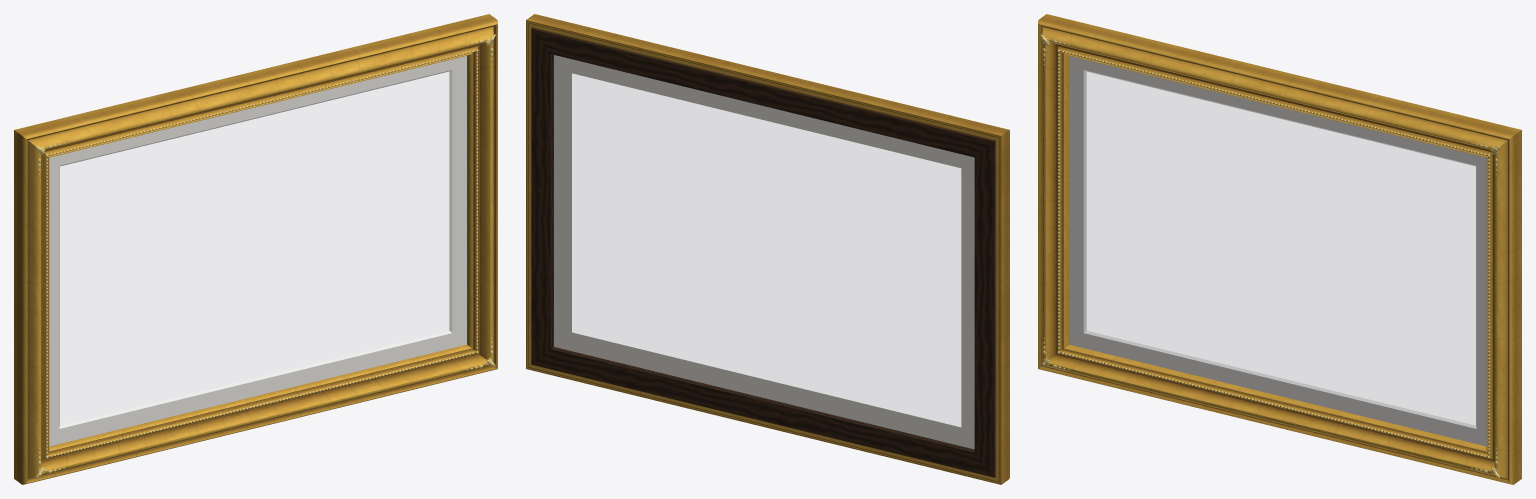
Rendered from gallery-frame.glb.
3 views of the same model, side by side, from view 1: azimuth 30°, elevation 25°; view 2: azimuth 150°, elevation 25°; view 3: azimuth 330°, elevation 25° (orthographic).
Visible parts, largest first — view 1: MuseumGlass_Pane, GoldFrame_Molding, Passepartout_Board, GoldFrame_PearlBeading, GoldFrame_CornerClasps; view 2: MuseumGlass_Pane, Subframe_Walnut, Passepartout_Board, GoldFrame_Molding; view 3: MuseumGlass_Pane, GoldFrame_Molding, Passepartout_Board, GoldFrame_PearlBeading, GoldFrame_CornerClasps.
Part boxes in pixels (box(x1,y1,x2,y2)): MuseumGlass_Pane: box(49, 56, 466, 445); GoldFrame_Molding: box(14, 14, 497, 484); Passepartout_Board: box(49, 56, 466, 446); GoldFrame_PearlBeading: box(45, 49, 478, 458); GoldFrame_CornerClasps: box(36, 34, 495, 478); MuseumGlass_Pane: box(572, 74, 960, 426); Subframe_Walnut: box(531, 28, 995, 477); Passepartout_Board: box(554, 55, 974, 449); GoldFrame_Molding: box(526, 14, 1009, 484); MuseumGlass_Pane: box(1069, 56, 1486, 445); GoldFrame_Molding: box(1038, 14, 1521, 484); Passepartout_Board: box(1069, 56, 1486, 446); GoldFrame_PearlBeading: box(1057, 49, 1490, 458); GoldFrame_CornerClasps: box(1040, 34, 1499, 478).
Size of the model in its own units: 6.2 by 4.35 by 0.364.
Materials: 7 (2 with a texture image).
